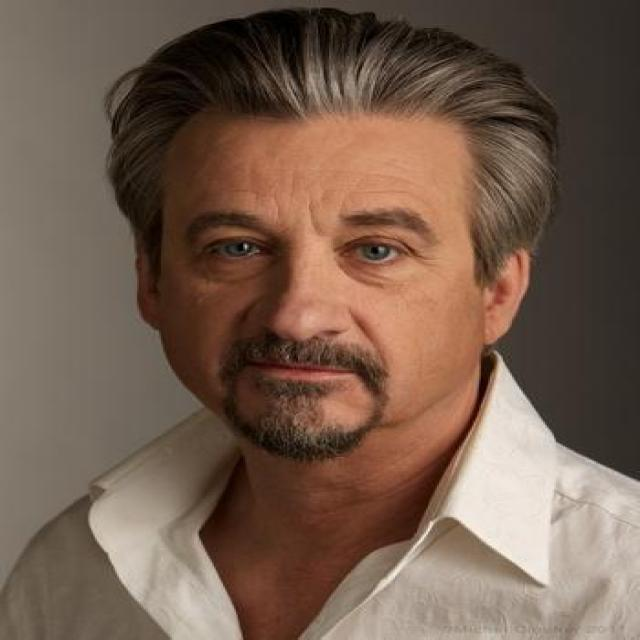0_rostro_limpio: (133, 64, 510, 464)
